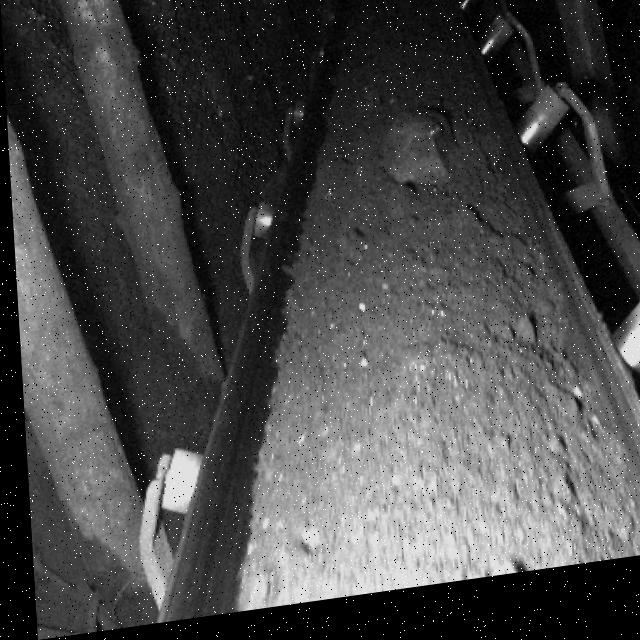large_sized_coal: (374, 116, 456, 200)
